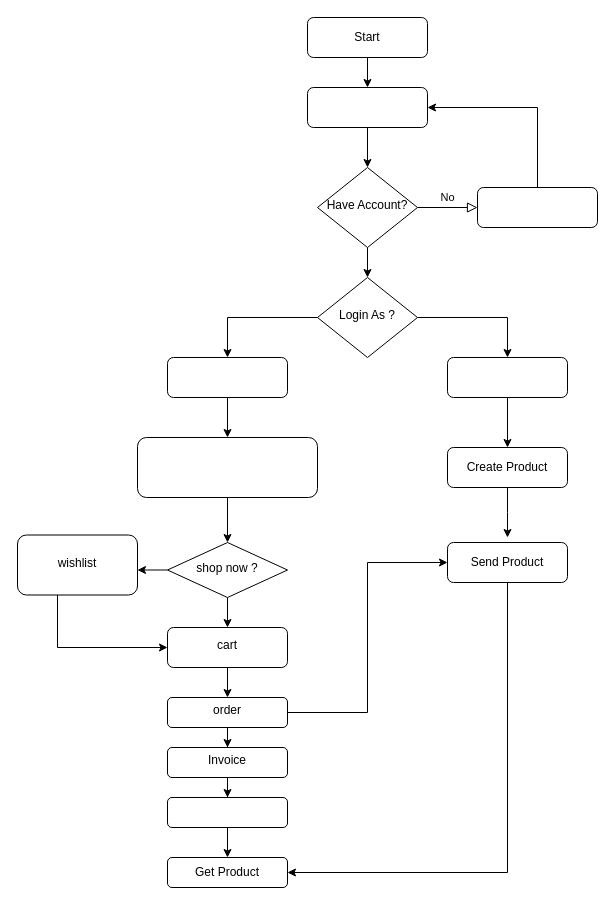
Image size: 615x905. Some labels were removed from this diagram. Here are the shapes that lost their labels. From the top down, the centre of each, then its label:
At (x=367, y=107): "Login".
At (x=537, y=207): "Registration".
At (x=227, y=377): "Buyer".
At (x=507, y=377): "Seller".
At (x=227, y=467): "Get All Product find product by category find by product name etc".
At (x=227, y=812): "History Transaction".
